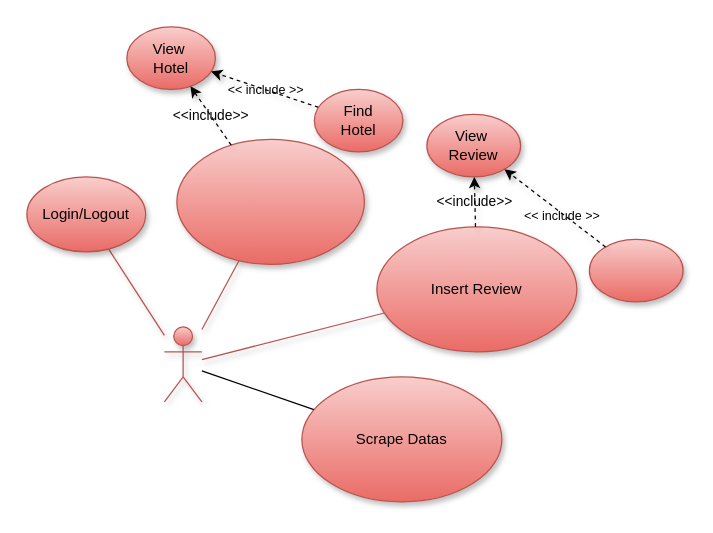
Some shapes in this 713 by 533 pixel diagram are drawn without their labels. Each missing label, with the centre of its shape:
Find Review: point (637, 272)
Insert Hotel: point (271, 203)
Spider: point (183, 366)
